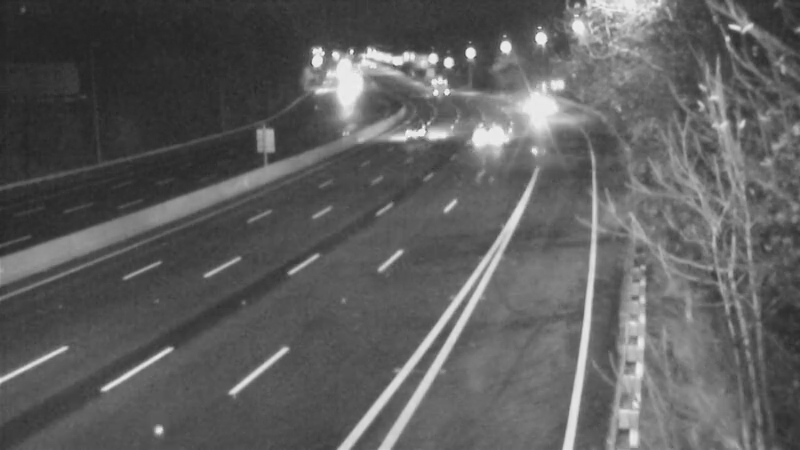vehicle: (413, 62, 463, 112), (520, 82, 570, 132), (462, 113, 512, 163), (323, 66, 373, 116)
